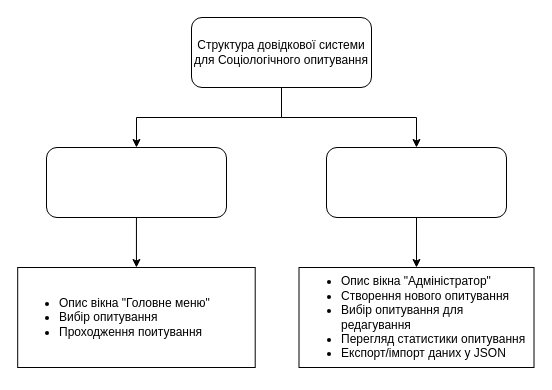
The diagram is 552 pixels wide and 390 high, and some of its shapes have lost their labels. Here are the shapes that lost their labels. From the top down, the centre of each, then its label:
At (136,182): "Клієнтський модуль".
At (416,182): "Адміністративний модуль".
